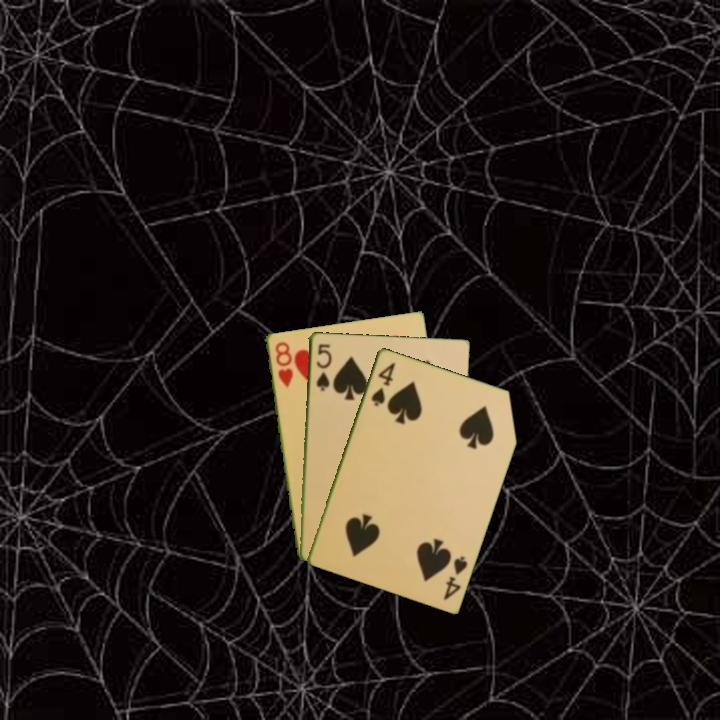4s: (367, 358, 398, 409), (440, 552, 470, 603)
5s: (313, 340, 333, 393)
8h: (271, 338, 296, 390)
